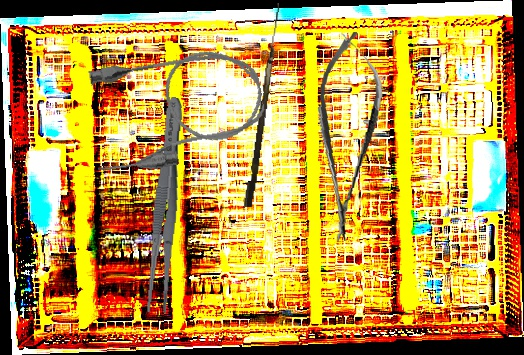Cannula: (79, 39, 272, 180)
Dressing Forceps: (142, 96, 190, 314)
Hook Surgical: (243, 2, 281, 208)
Micro Scissor: (305, 29, 388, 244)
